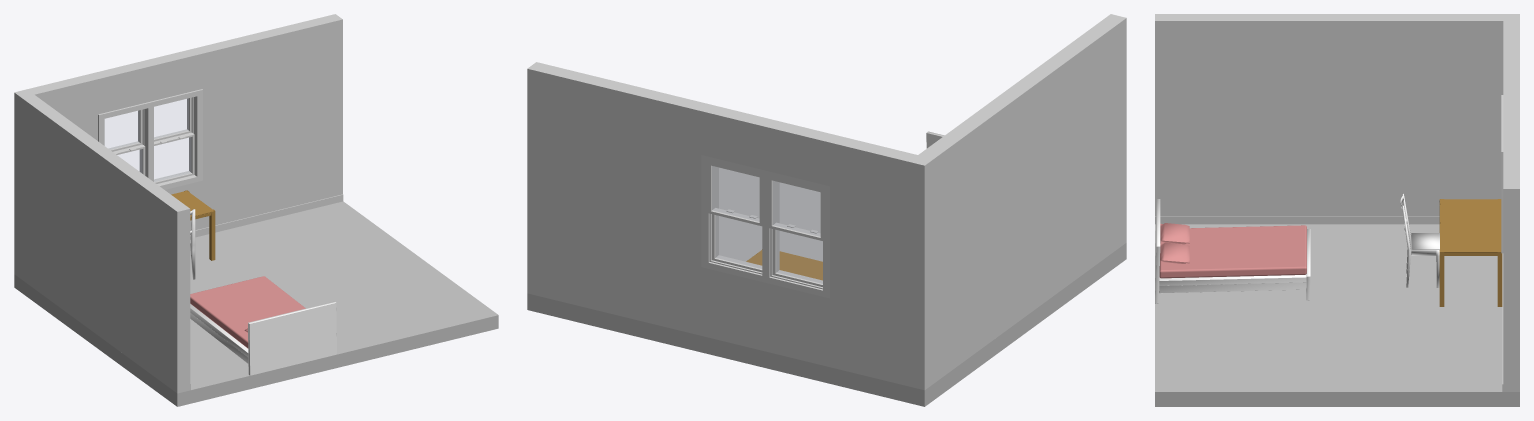
Rendered from L14_W16_furniture2_circulation1.glb.
3 renders of one model, left to right at view 1: azimuth 30°, elevation 25°; view 2: azimuth 150°, elevation 25°; view 3: azimuth 270°, elevation 25°, orthographic. The views are drawn at different scales.
Size of the model in its own units: 200 by 116 by 176.
